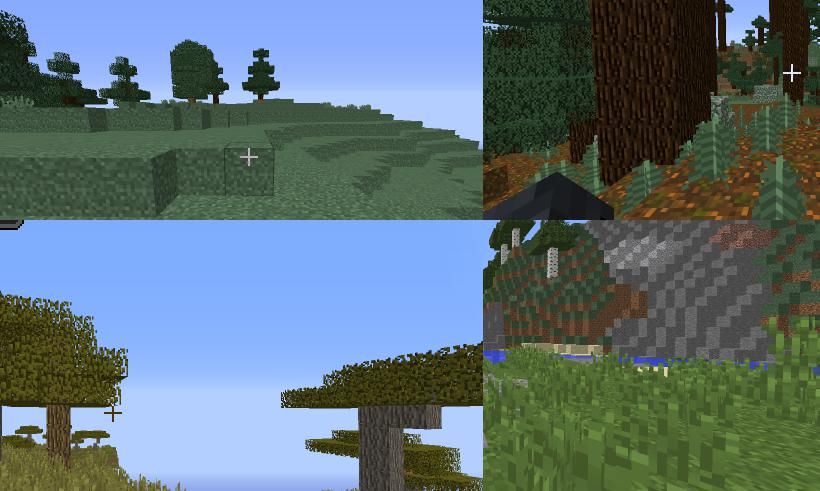minecraft-blocks: (594, 1, 707, 192), (359, 404, 443, 491), (784, 1, 807, 106), (48, 405, 72, 471), (548, 249, 559, 281), (513, 229, 521, 250), (502, 245, 508, 266), (214, 96, 220, 105), (189, 99, 197, 104), (259, 95, 264, 101)
